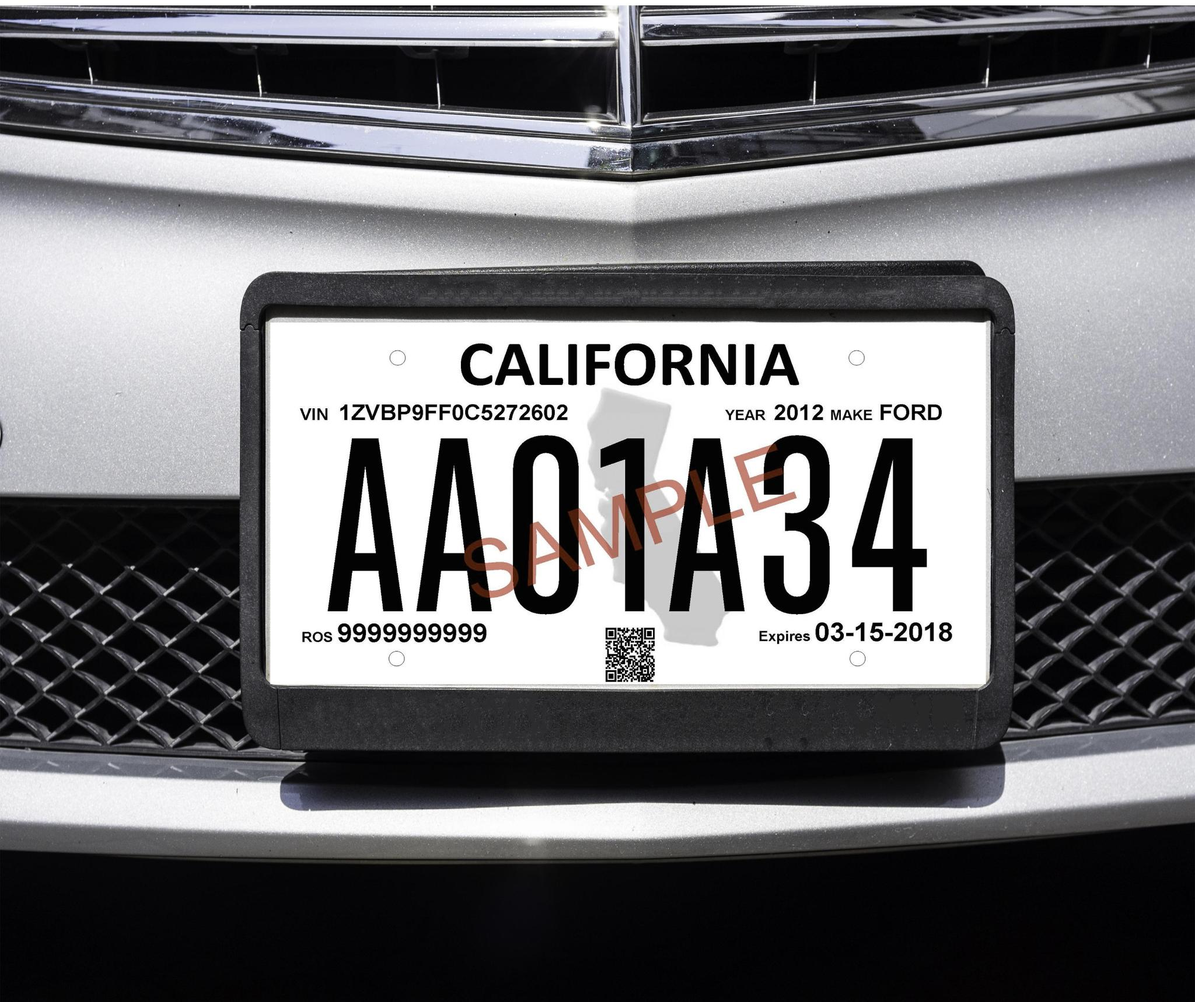License_Plate: (267, 313, 991, 688)
